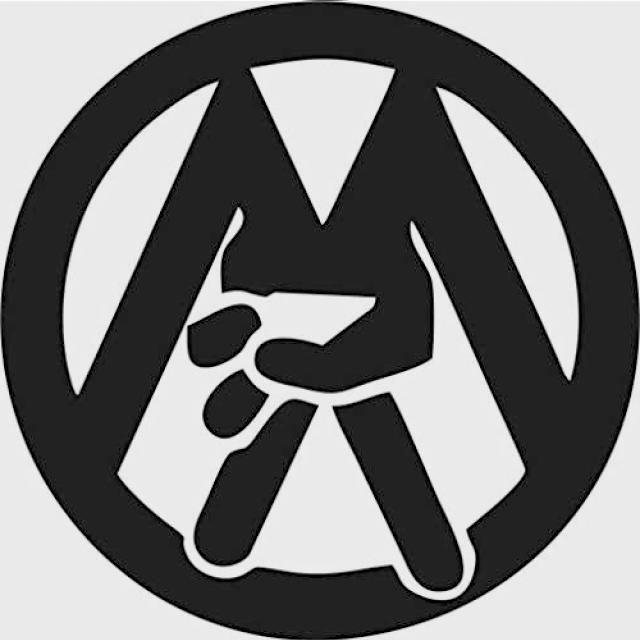volkswagen: (0, 1, 640, 640)
